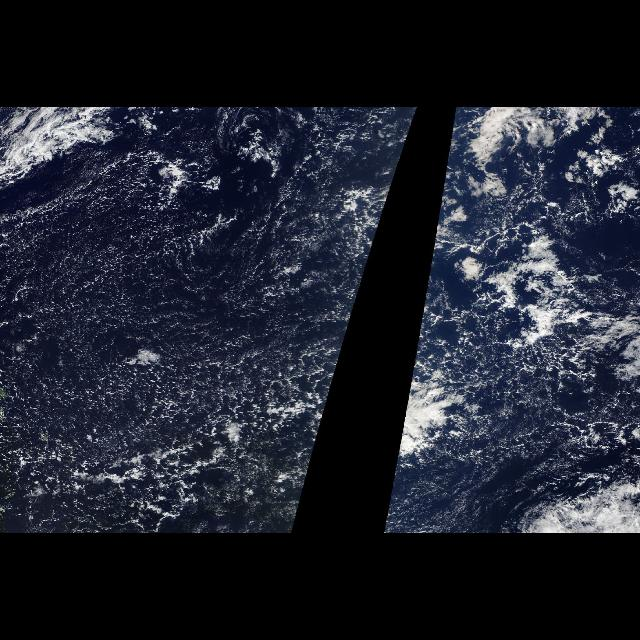Gravel: (1, 185, 372, 527), (384, 248, 636, 518)
